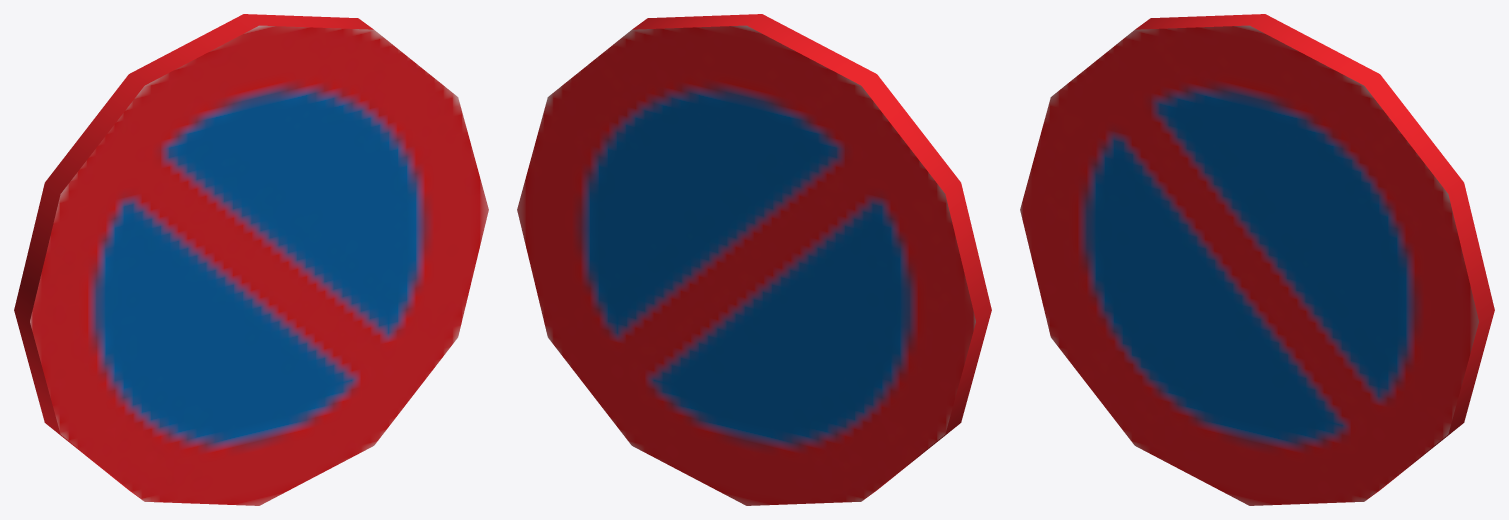
File: road sign.FBX
The picture shows the model from 3 angles, left to right: view 1: azimuth 30°, elevation 25°; view 2: azimuth 150°, elevation 25°; view 3: azimuth 330°, elevation 25°; orthographic projection.
Visible parts, largest first — view 1: road sign; view 2: road sign; view 3: road sign.
Part boxes in pixels (x1,y1,x2,y2): road sign: (14, 14, 488, 505); road sign: (517, 14, 991, 505); road sign: (1020, 14, 1494, 505).
Bounding box in the file's own units: 333 × 333 × 19.81.
